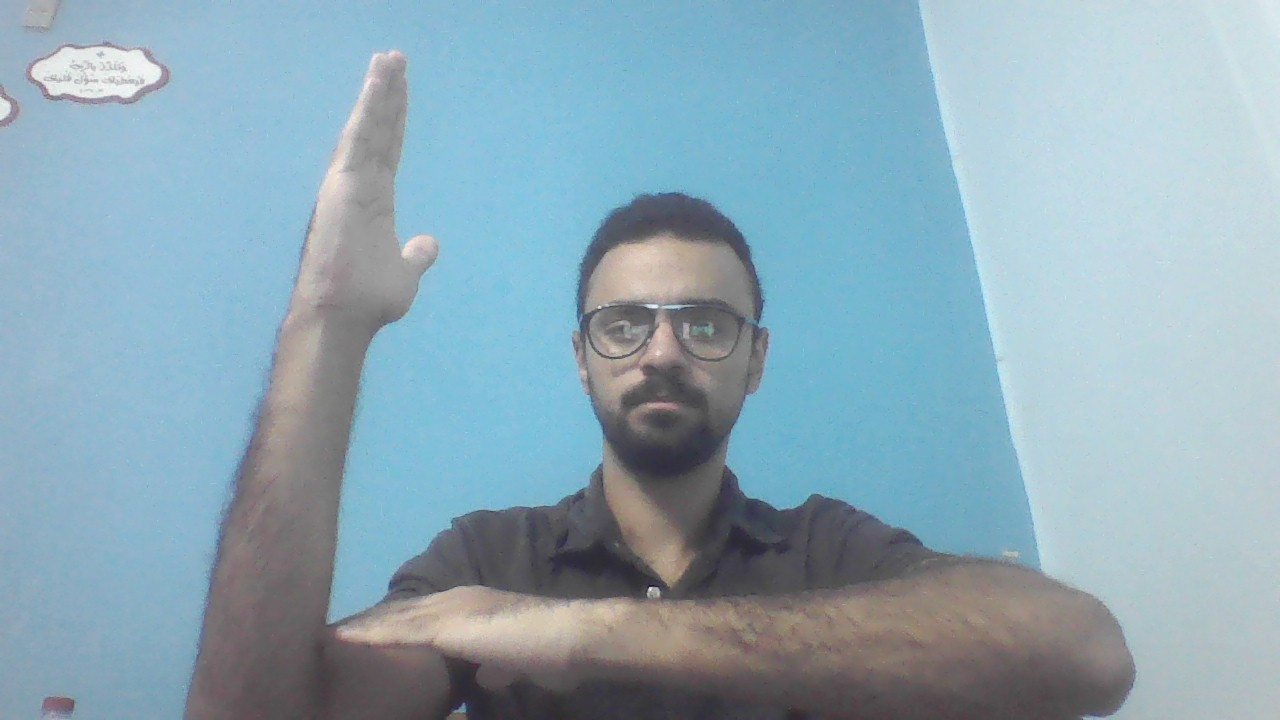morning: (189, 49, 1137, 717)
